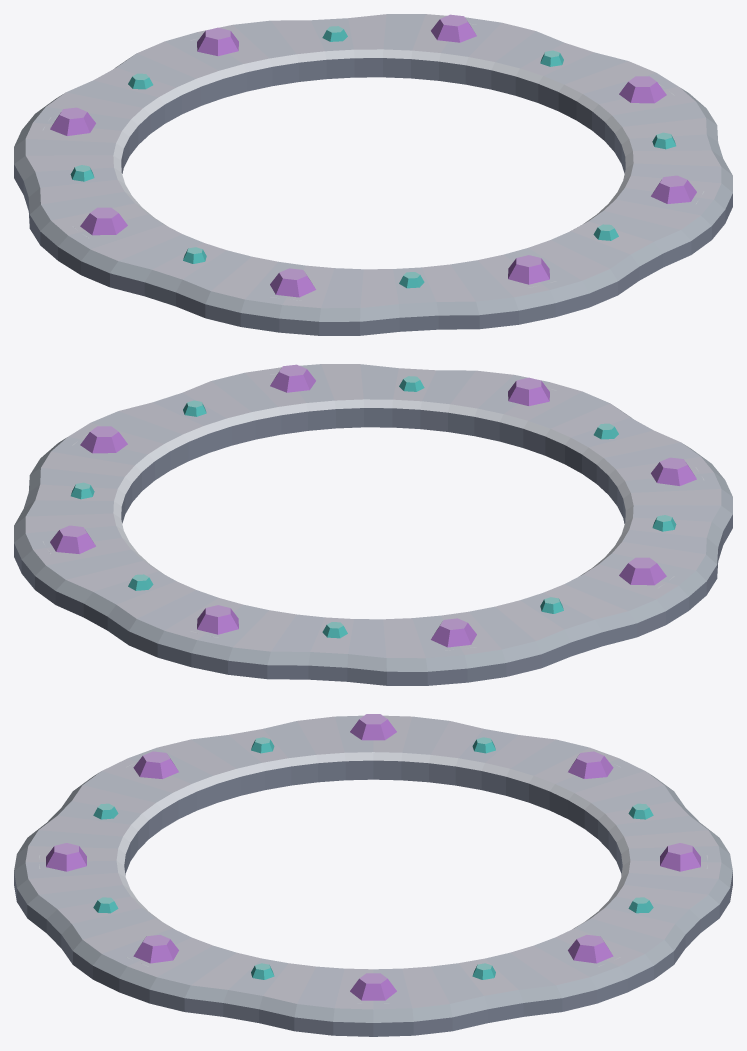
File: habitat_frame_6.fbx
The picture shows the model from 3 angles, top to bottom: view 1: azimuth 30°, elevation 25°; view 2: azimuth 150°, elevation 25°; view 3: azimuth 270°, elevation 25°; orthographic projection.
Visible parts, largest first — view 1: habitat_frame_6; view 2: habitat_frame_6; view 3: habitat_frame_6.
Part boxes in pixels (bbox=[...]): habitat_frame_6: bbox=[14, 14, 732, 335]; habitat_frame_6: bbox=[14, 364, 732, 685]; habitat_frame_6: bbox=[14, 714, 732, 1036].
Bounding box in the file's own units: 7.5 × 0.416 × 7.5.
